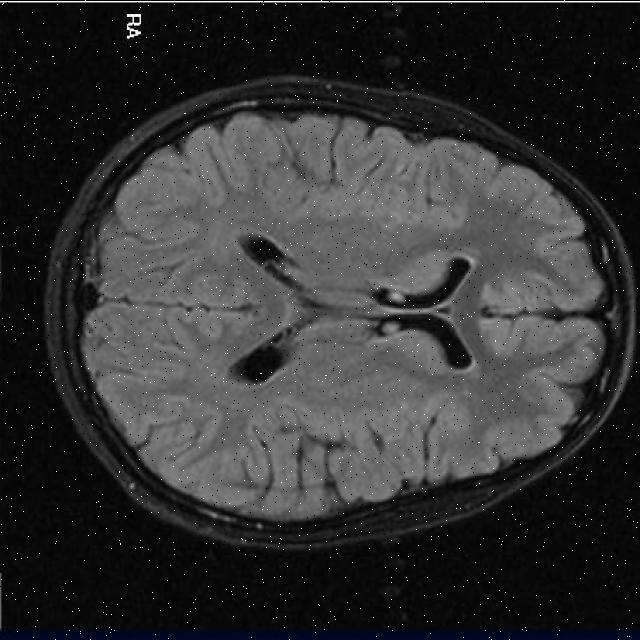No_Tumor: (45, 78, 634, 549)
